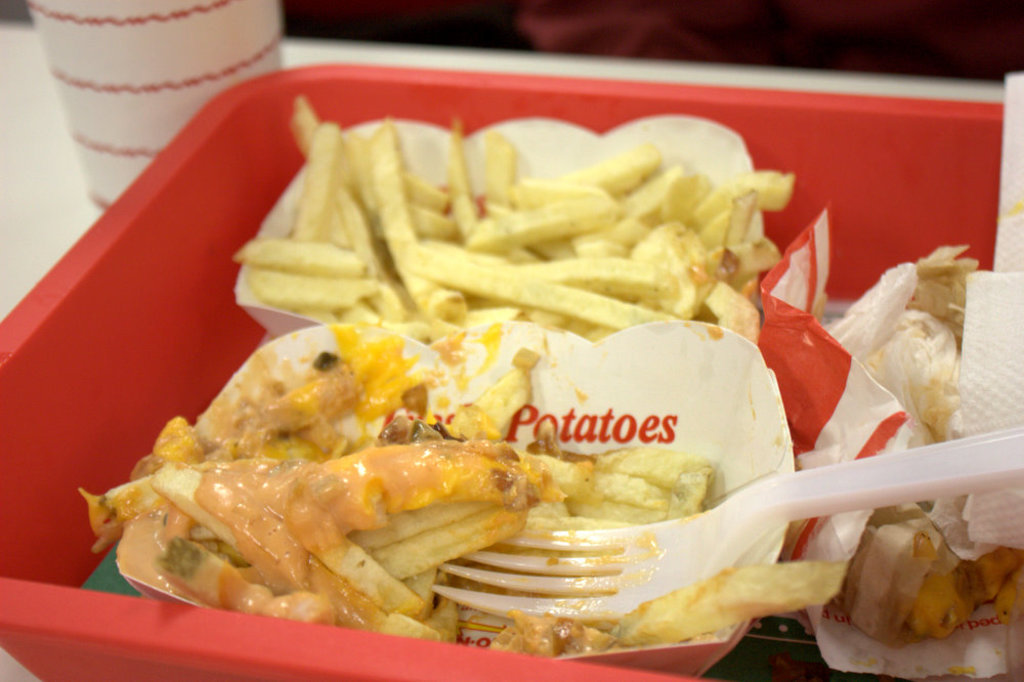French fries: (78, 350, 838, 634), (226, 122, 841, 348)
